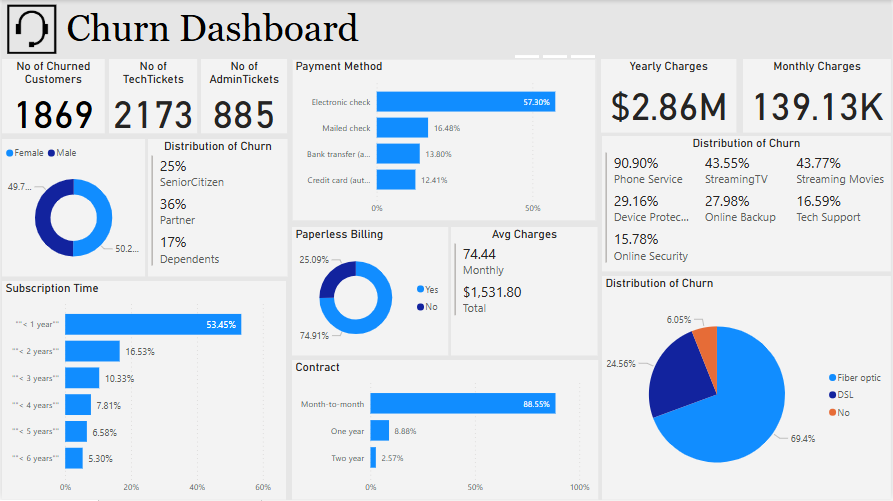

Layout of this report page (visuals, bound fields, positions):
{"tool":"powerbi","page":{"name":"Churn Dashboard","canvas":[1280,720],"ordinal":0},"visuals":[{"type":"pieChart","title":"Distribution of Churn","fields":{"Category":["01 Churn-Dataset.InternetService","01 Churn-Dataset.Churn"],"Y":["CountNonNull(01 Churn-Dataset.Churn)"]},"box":[864,397.6,416,322.1],"z":0},{"type":"clusteredBarChart","title":"Payment Method","fields":{"Category":["01 Churn-Dataset.PaymentMethod"],"Y":["CountNonNull(01 Churn-Dataset.PaymentMethod)"]},"box":[417.7,85.6,437.9,233.2],"z":1000},{"type":"card","title":"No of TechTickets","fields":{"Values":["Sum(01 Churn-Dataset.numTechTickets)"]},"box":[154.3,85.6,127.5,107.4],"z":2000},{"type":"multiRowCard","title":"Avg Charges","fields":{"Values":["Avg(01 Churn-Dataset.MonthlyCharges)","Avg(01 Churn-Dataset.TotalCharges)"]},"box":[645.9,327.1,211.4,184.5],"z":3000},{"type":"card","title":"No of AdminTickets","fields":{"Values":["Sum(01 Churn-Dataset.numAdminTickets)"]},"box":[286.9,85.6,124.1,107.4],"z":4000},{"type":"card","title":"No of Churned Customers ","fields":{"Values":["CountNonNull(01 Churn-Dataset.Churn)"]},"box":[0,85.6,147.6,107.4],"z":5000},{"type":"donutChart","fields":{"Category":["01 Churn-Dataset.gender"],"Y":["CountNonNull(01 Churn-Dataset.gender)"]},"box":[0,199.6,206.3,198],"z":6000},{"type":"clusteredBarChart","title":"Contract","fields":{"Category":["01 Churn-Dataset.Contract"],"Y":["CountNonNull(01 Churn-Dataset.Contract)"]},"box":[417.7,518.4,441.2,201.3],"z":7000},{"type":"card","title":"Monthly Charges","fields":{"Values":["Sum(Churned.MonthlyCharges)"]},"box":[1066.9,85.6,213.1,105.7],"z":8000},{"type":"card","title":"Yearly Charges","fields":{"Values":["Sum(Churned.TotalCharges)"]},"box":[862.3,85.6,194.6,105.7],"z":9000},{"type":"clusteredBarChart","title":"Subscription Time","fields":{"Category":["Churned.Loyalty"],"Y":["CountNonNull(Churned.Churn)"]},"box":[0,404.3,409.3,315.4],"z":10000},{"type":"donutChart","title":"Paperless Billing","fields":{"Category":["Churned.PaperlessBilling"],"Y":["CountNonNull(Churned.PaperlessBilling)"]},"box":[417.7,327.1,224.8,184.5],"z":11000},{"type":"multiRowCard","title":"Distribution of Churn","fields":{"Values":["Churned.Phone Service in %","Churned.StreamingTV in %","Churned.Streaming Movies in %","Churned.Device Protection in %","Churned.Online Backup in %","Churned.Tech Support in %","Churned.Online Security in %"]},"box":[864,196.3,416,194.6],"z":12000},{"type":"multiRowCard","title":"Distribution of Churn","fields":{"Values":["Churned.SeniorCitizen in %","Churned.Partner %","Churned.Dependents %"]},"box":[209.7,199.6,201.3,198],"z":13000},{"type":"image","box":[1.7,1.7,83.9,80.5],"z":14000},{"type":"textbox","box":[87.2,5,1192.8,75.5],"z":15000}]}

Visuals, with their boxes in screenshot pixels (x1, y1, x2, y2), scaled from the page's 1280x720 canvas onto the 893x501 screenshot:
"Distribution of Churn" pieChart: bbox=[603, 277, 892, 500]
"Payment Method" clusteredBarChart: bbox=[291, 60, 597, 222]
"No of TechTickets" card: bbox=[108, 60, 197, 134]
"Avg Charges" multiRowCard: bbox=[451, 228, 598, 356]
"No of AdminTickets" card: bbox=[200, 60, 287, 134]
"No of Churned Customers " card: bbox=[0, 60, 103, 134]
donutChart - 01 Churn-Dataset.gender x CountNonNull(01 Churn-Dataset.gender): bbox=[0, 139, 144, 277]
"Contract" clusteredBarChart: bbox=[291, 361, 599, 500]
"Monthly Charges" card: bbox=[744, 60, 892, 133]
"Yearly Charges" card: bbox=[602, 60, 737, 133]
"Subscription Time" clusteredBarChart: bbox=[0, 281, 286, 500]
"Paperless Billing" donutChart: bbox=[291, 228, 448, 356]
"Distribution of Churn" multiRowCard: bbox=[603, 137, 892, 272]
"Distribution of Churn" multiRowCard: bbox=[146, 139, 287, 277]
image: bbox=[1, 1, 60, 57]
textbox: bbox=[61, 3, 892, 56]
